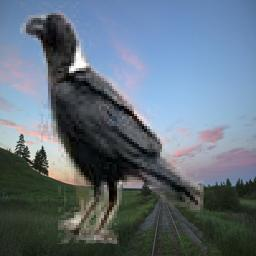Crow: (20, 2, 204, 244)
